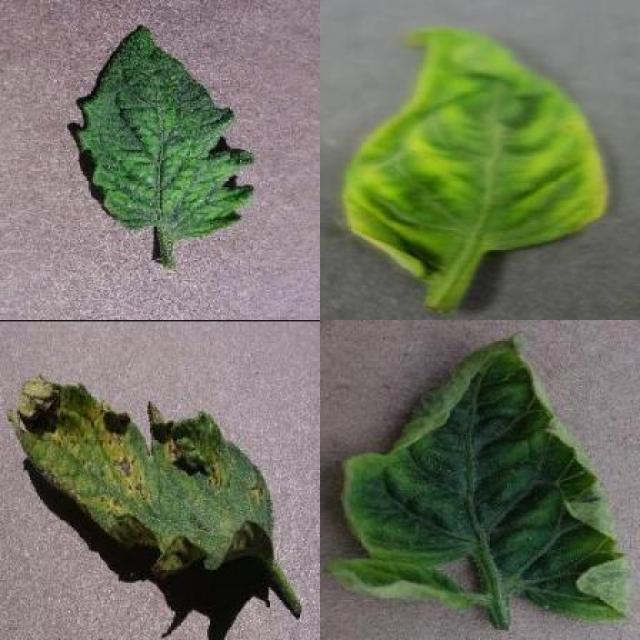Mosaic Virus: (75, 23, 258, 238)
Septoria: (8, 374, 275, 570)
Yellow Leaf Curl Virus: (326, 326, 630, 621), (344, 27, 609, 280)
